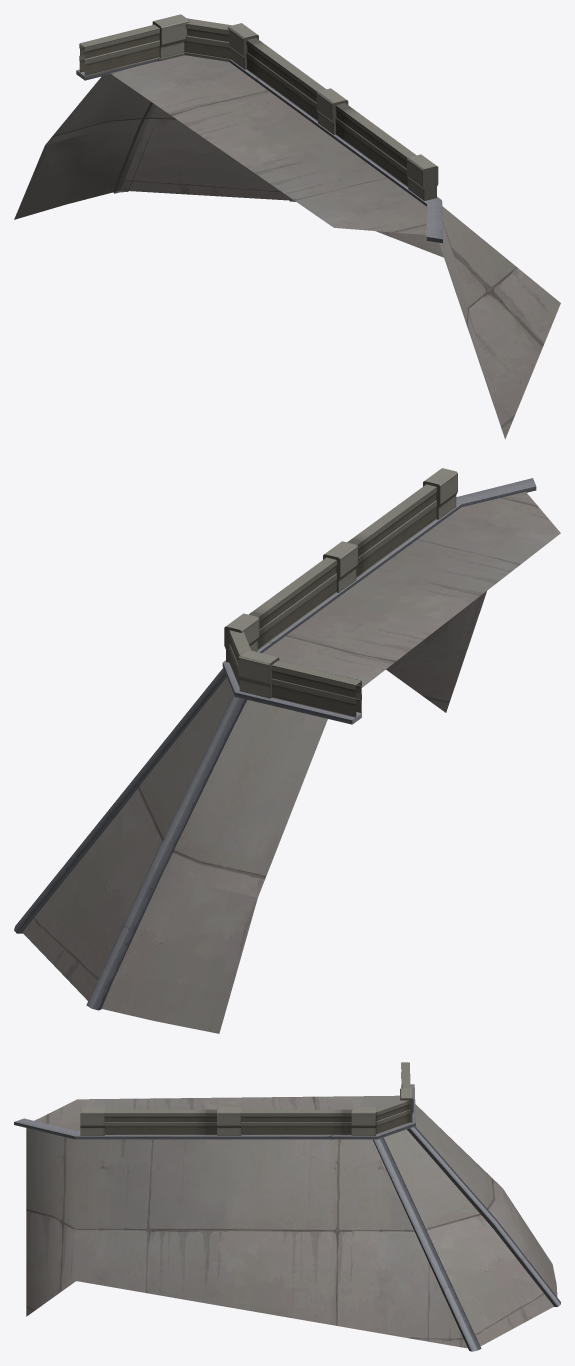
The model's file is sc_slin_jz11_um.fbx.
3 renders of one model, top to bottom at view 1: azimuth 30°, elevation 25°; view 2: azimuth 150°, elevation 25°; view 3: azimuth 270°, elevation 25°, orthographic. The views are drawn at different scales.
Parts seen in each view (by area): view 1: slin_jz11; view 2: slin_jz11; view 3: slin_jz11.
Part boxes in pixels (x1,y1,x2,y2): slin_jz11: (14, 14, 560, 439); slin_jz11: (14, 468, 560, 1033); slin_jz11: (14, 1062, 560, 1351).
Size of the model in its own units: 770 by 706 by 1808.
Materials: 3 (3 with a texture image).
